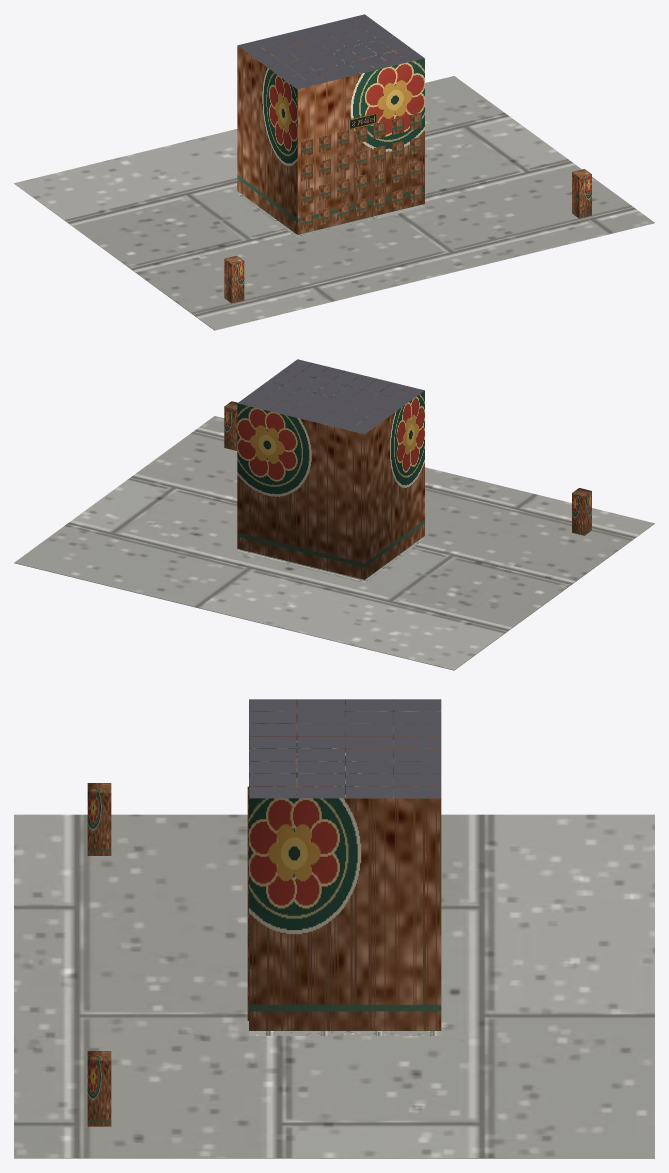
3 renders of one model, top to bottom at view 1: azimuth 30°, elevation 25°; view 2: azimuth 150°, elevation 25°; view 3: azimuth 270°, elevation 25°, orthographic. The views are drawn at different scales.
Parts seen in each view (by area): view 1: 11680_01_06126_016_01_L2__base, 11680_01_06126_016_02_L2__body, 11680_01_06126_016_03_L2__roof, 11680_01_06126_016_05_L2__openings, 11680_01_06126_016_06_L2__green; view 2: 11680_01_06126_016_01_L2__base, 11680_01_06126_016_02_L2__body, 11680_01_06126_016_03_L2__roof, 11680_01_06126_016_06_L2__green; view 3: 11680_01_06126_016_01_L2__base, 11680_01_06126_016_02_L2__body, 11680_01_06126_016_03_L2__roof, 11680_01_06126_016_06_L2__green.
Part boxes in pixels (x1,y1,x2,y2): 11680_01_06126_016_01_L2__base: (14, 76, 654, 330); 11680_01_06126_016_02_L2__body: (237, 18, 424, 234); 11680_01_06126_016_03_L2__roof: (238, 14, 424, 89); 11680_01_06126_016_05_L2__openings: (301, 112, 421, 229); 11680_01_06126_016_06_L2__green: (224, 169, 591, 303); 11680_01_06126_016_01_L2__base: (14, 416, 654, 670); 11680_01_06126_016_02_L2__body: (237, 363, 424, 579); 11680_01_06126_016_03_L2__roof: (238, 359, 424, 433); 11680_01_06126_016_06_L2__green: (224, 401, 591, 535); 11680_01_06126_016_01_L2__base: (14, 814, 654, 1158); 11680_01_06126_016_02_L2__body: (249, 699, 441, 1030); 11680_01_06126_016_03_L2__roof: (249, 699, 440, 798); 11680_01_06126_016_06_L2__green: (87, 783, 111, 1126).
Bounding box in the file's own units: 76 × 24.62 × 60.
Materials: 5 (5 with a texture image).
